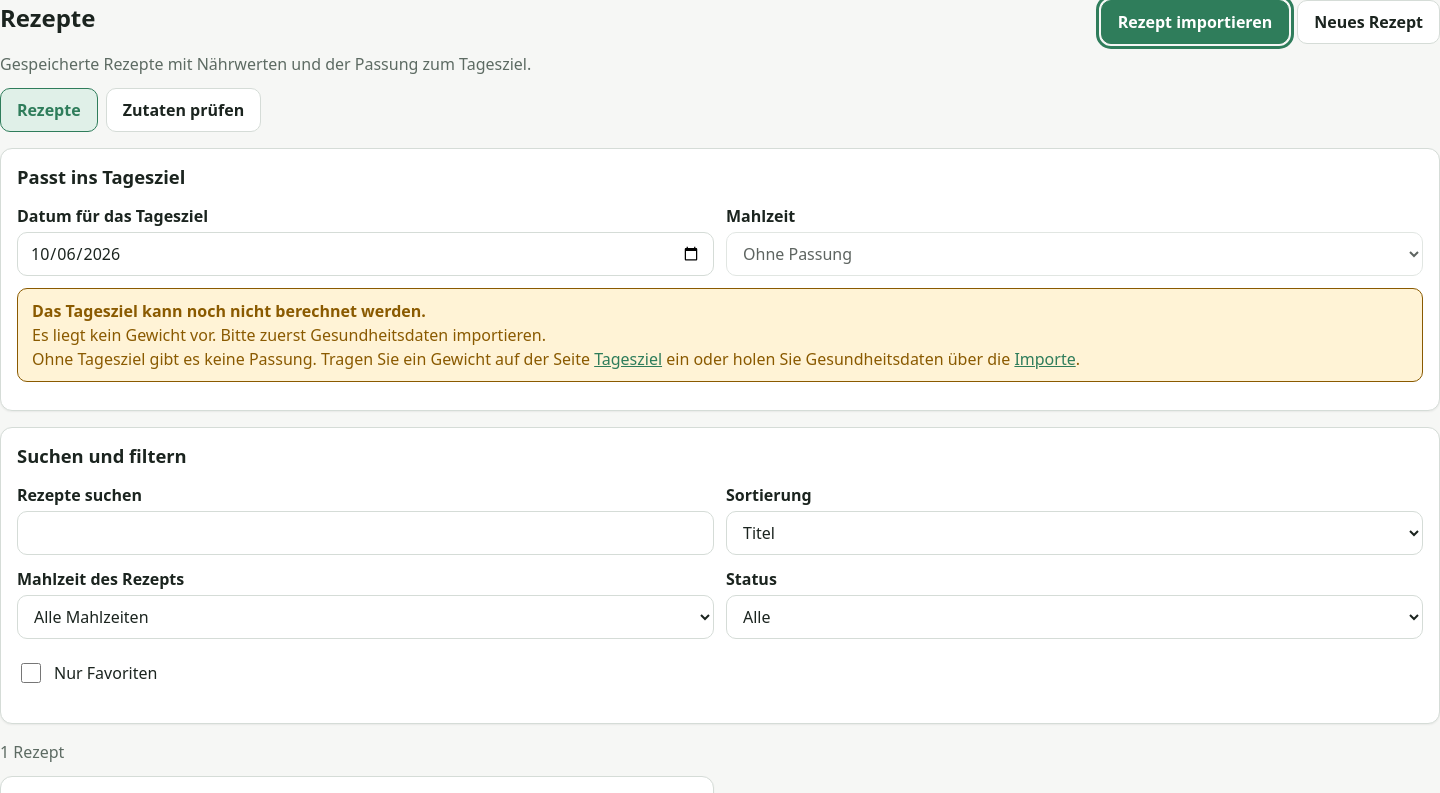
Test case: Rezept importieren › öffnet den Dialog mit Fokus im Adressfeld und schließt ihn mit Escape
Step 1. Click the button "Rezept importieren" → (1195, 22), box [1101, 0, 1289, 44]
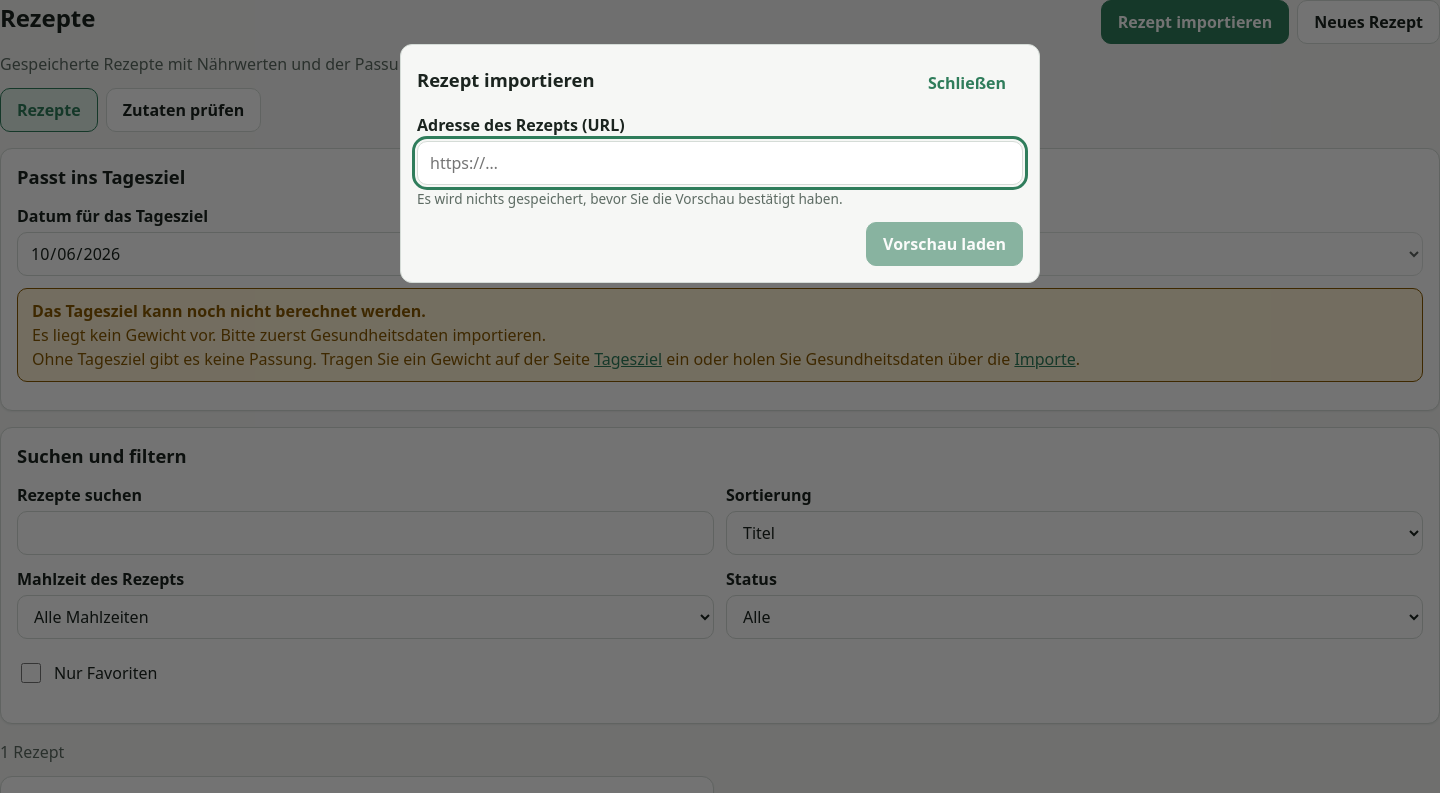
Step 2. Press Escape
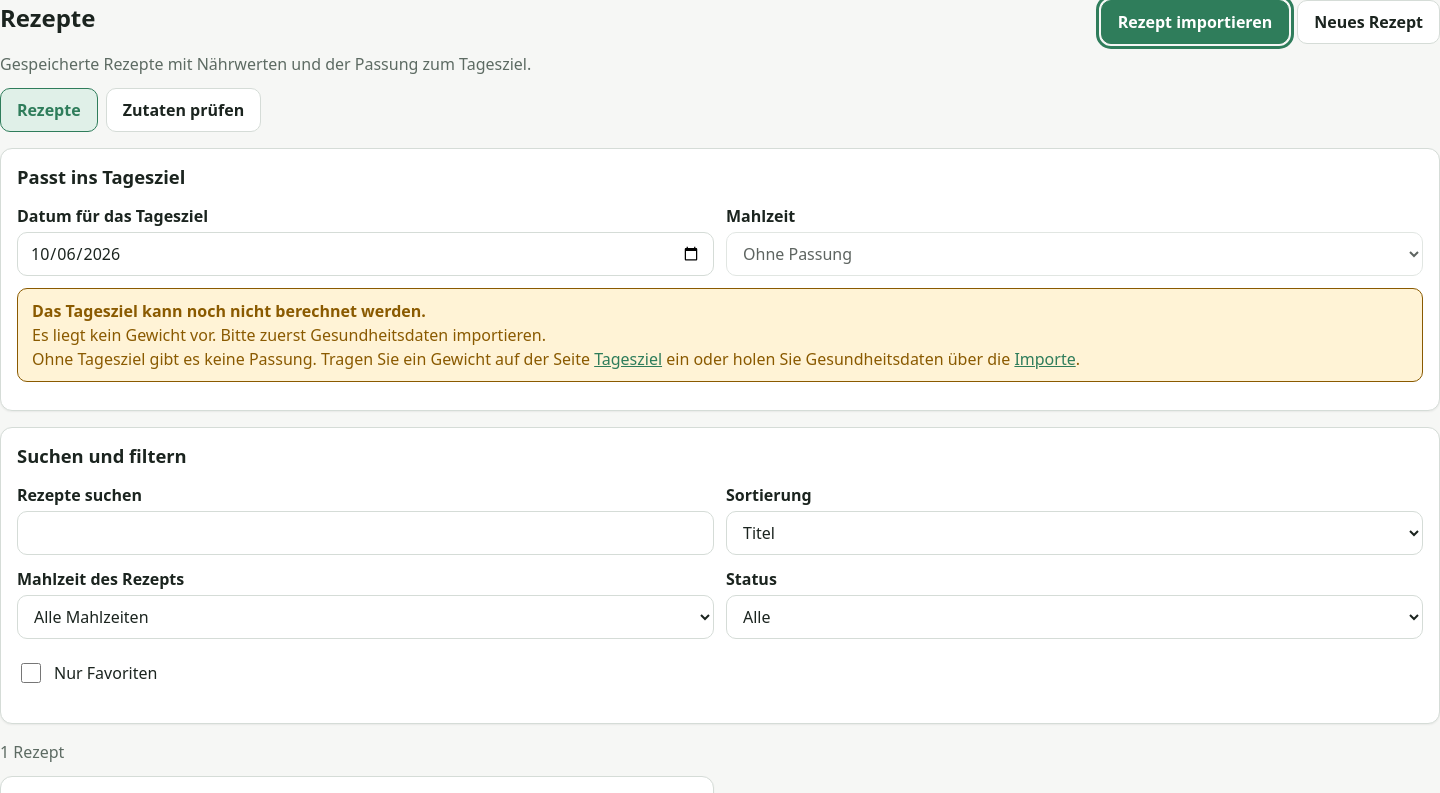
Result: the dialog is gone
